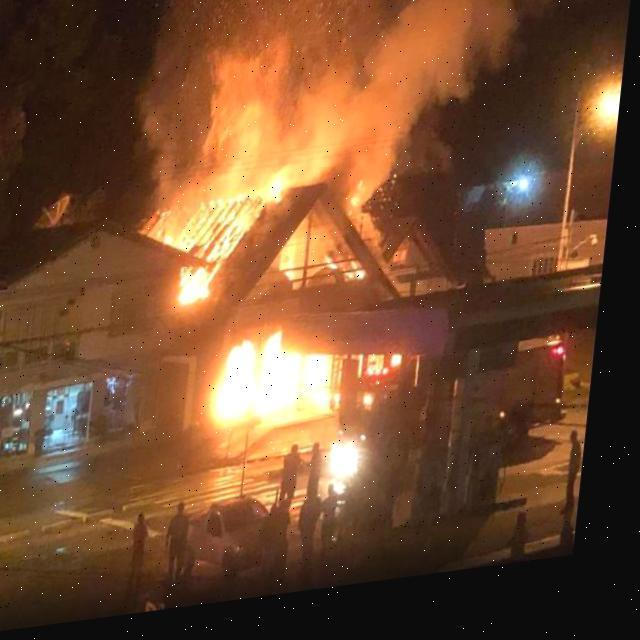Fire: (220, 330, 348, 432), (156, 178, 297, 266), (184, 262, 226, 313), (326, 262, 371, 296), (356, 186, 378, 217)
